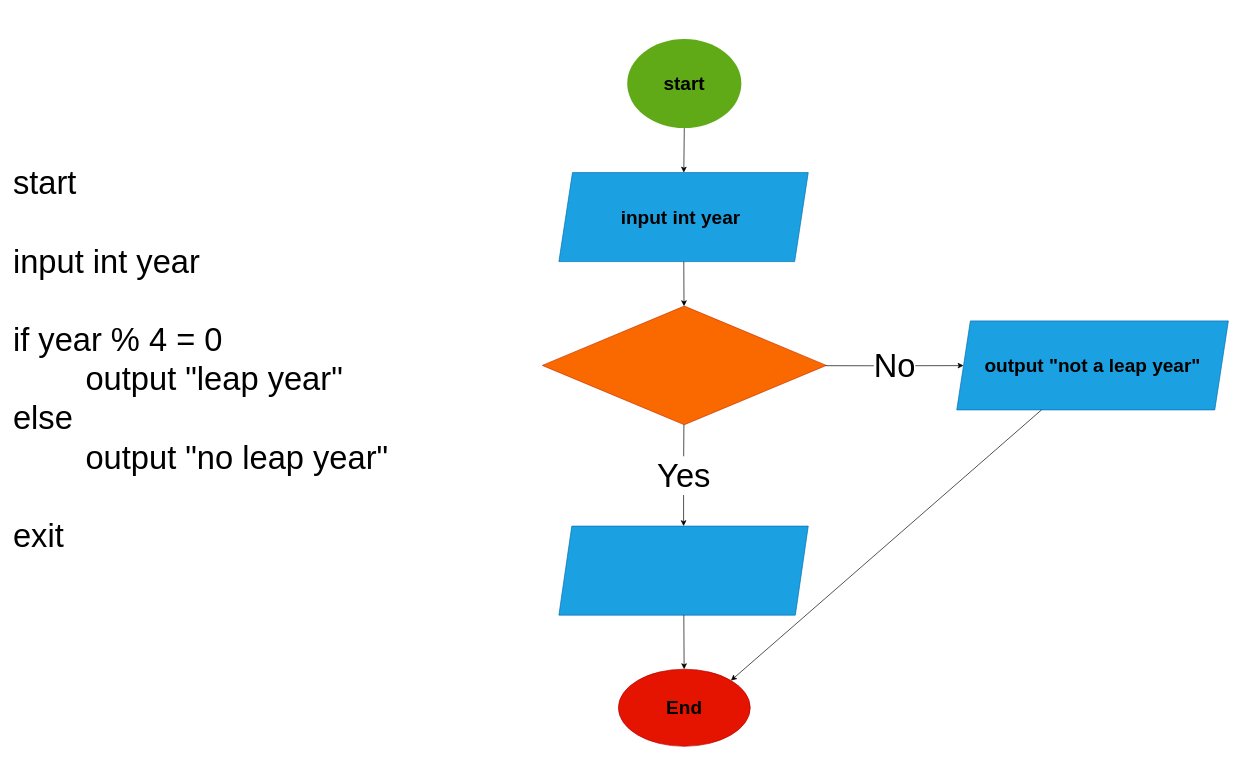
The diagram is 1240 pixels wide and 758 high, and some of its shapes have lost their labels. The shapes that lost their labels are listed below. From the top down, each one's centre as x and y in pixels, then its label:
point (684, 365): if year % 4 == 0
point (683, 570): output "leap year"
